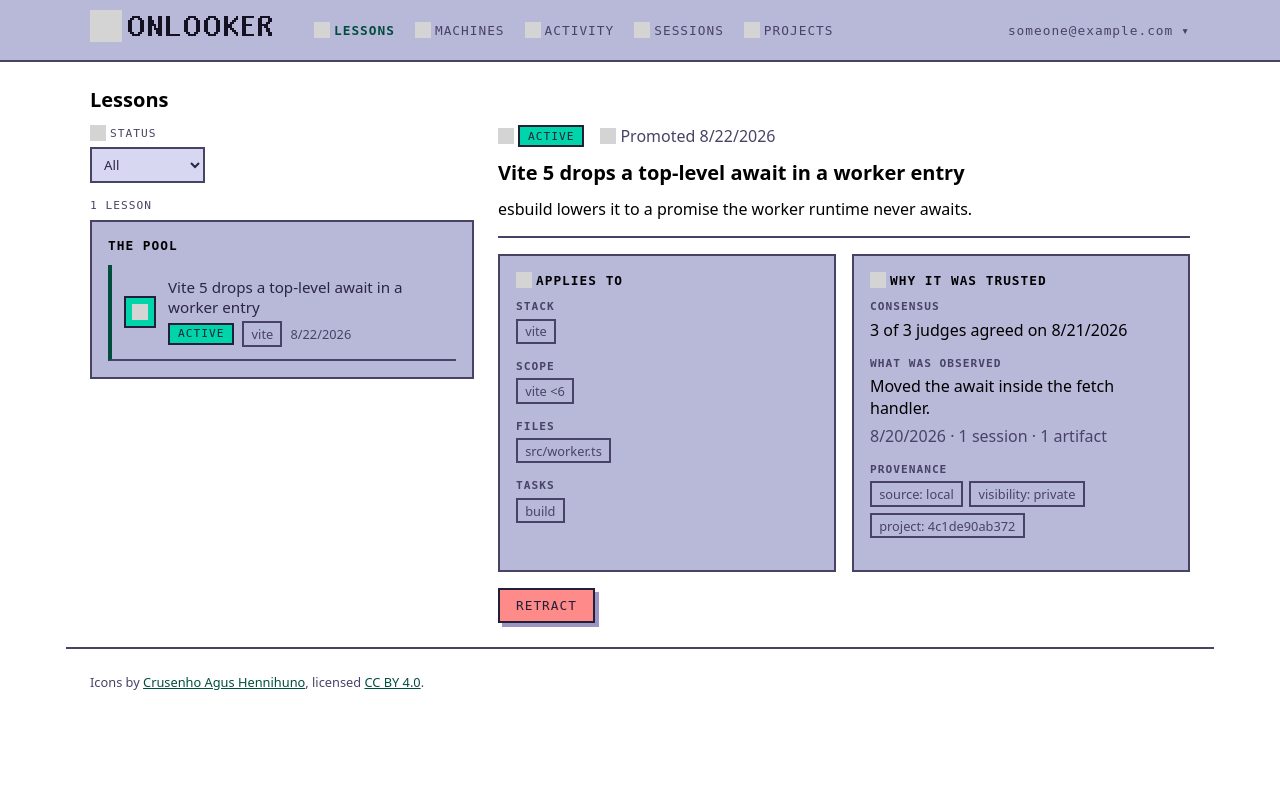
Test case: retract › reflects the retraction in the detail and the row once the server agrees
The width and height of the screenshot is (1280, 800).
Click the button "Retract" at [546, 606], box [498,588,595,623]
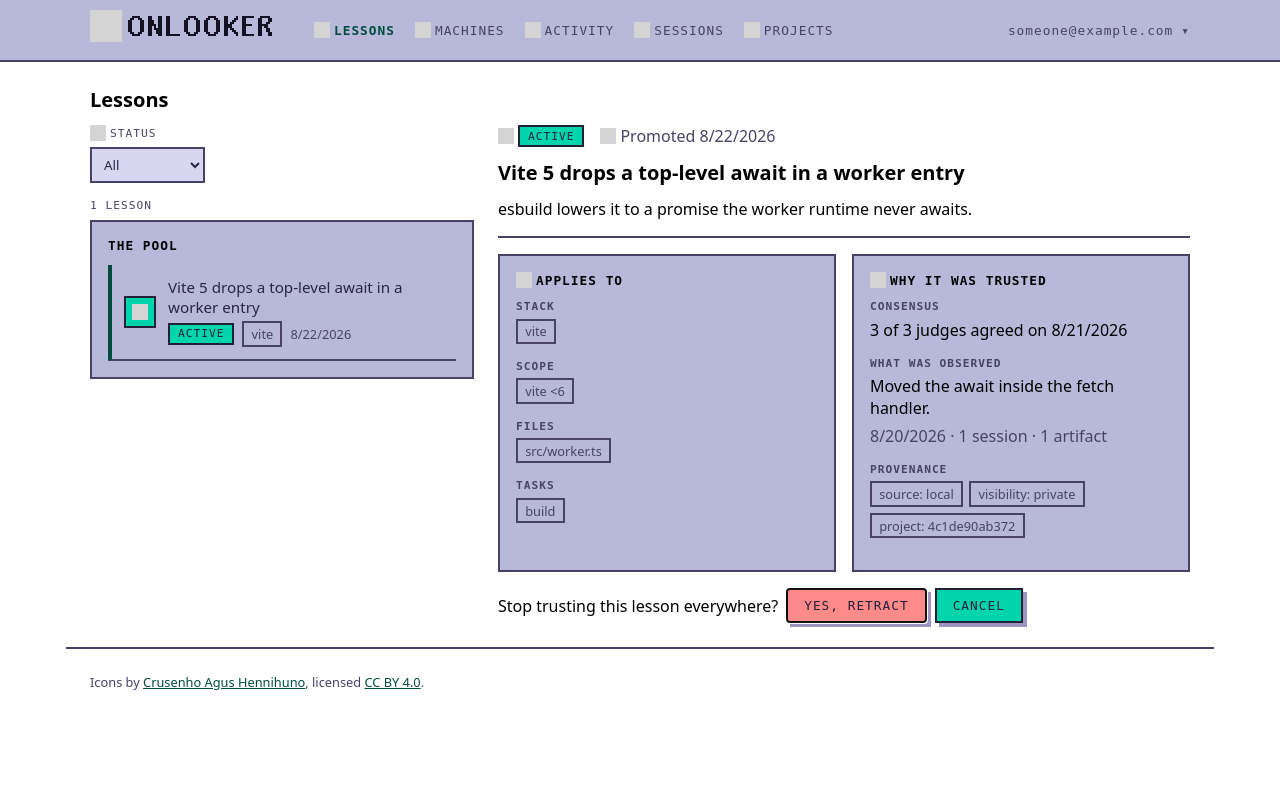
Click the button "Yes, retract" at [856, 606], box [786,588,927,623]
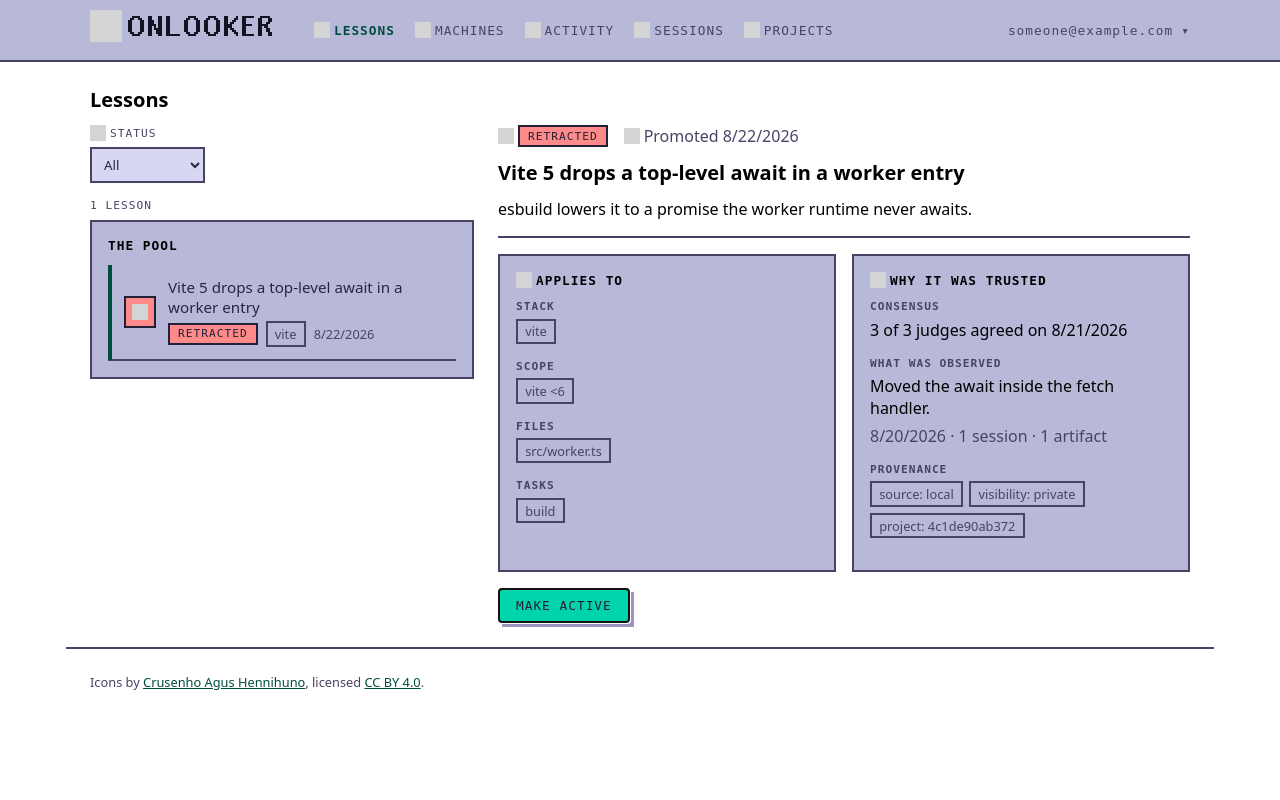
Check: the text "Retracted" is shown 2 times, box [168,323,258,345]; [518,125,608,147]
Check: the button "Make active" is shown, box [498,588,630,623]
